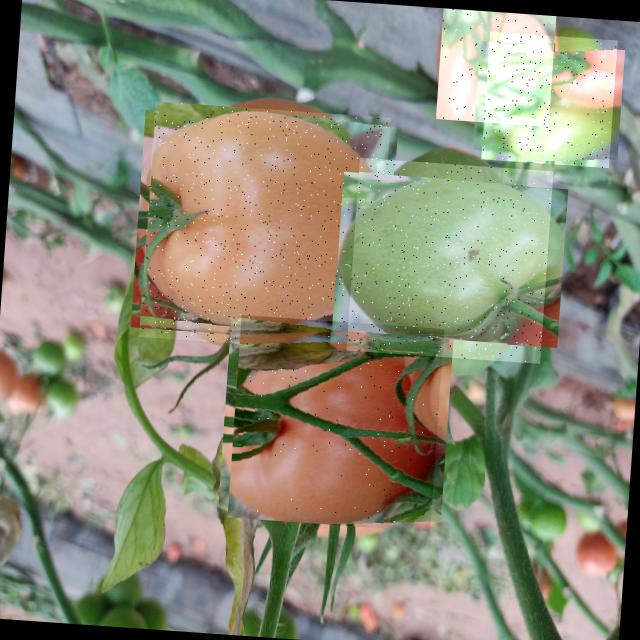Ripe Tomato: (138, 101, 390, 353), (227, 314, 444, 532), (436, 8, 556, 126)
Unripe Tomato: (346, 158, 553, 364), (480, 31, 618, 168)
